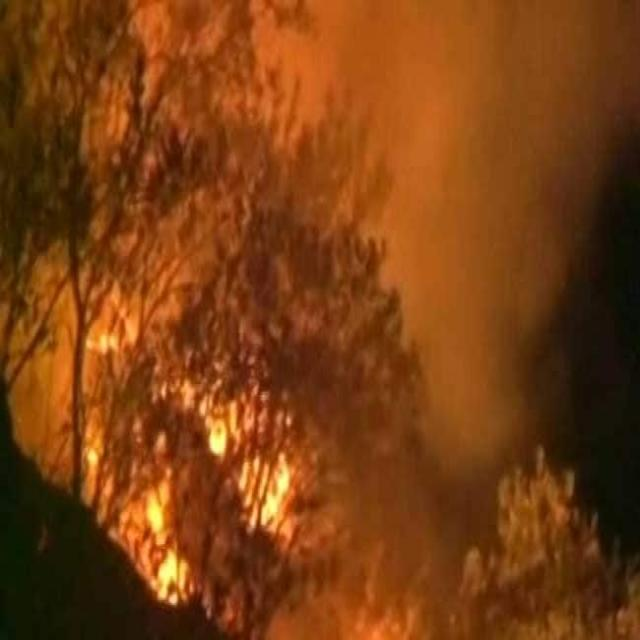Fire: (181, 388, 297, 540), (122, 472, 198, 620), (83, 304, 134, 376)
Smoke: (340, 19, 622, 363)
